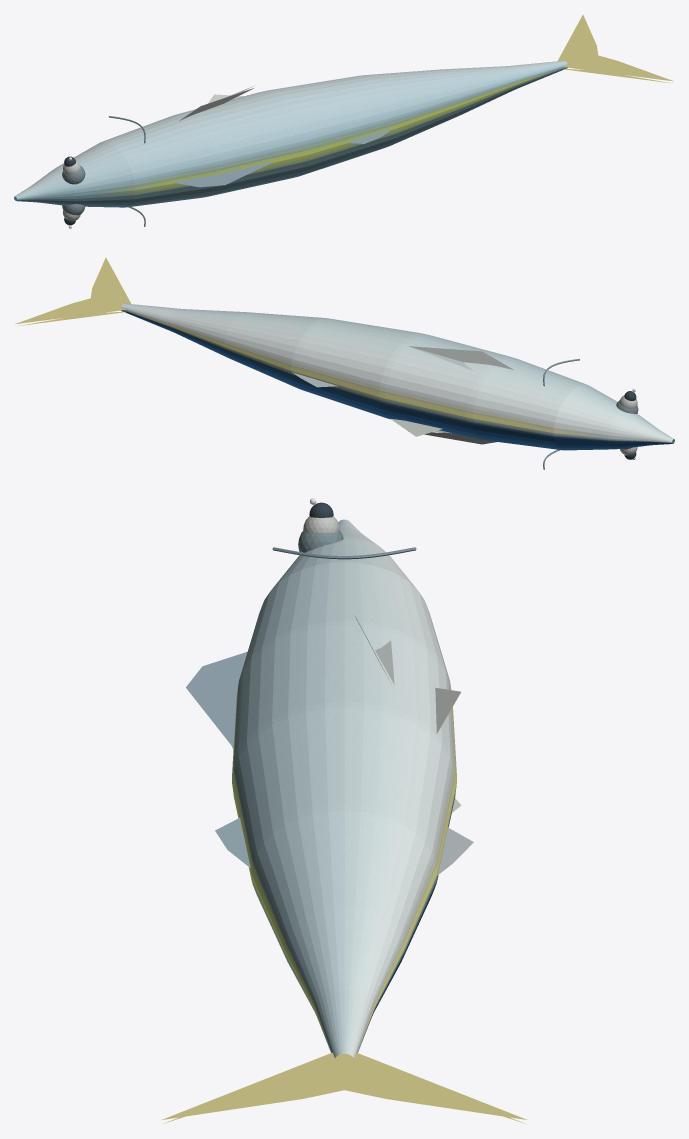
File: Ikan_Selar_Kuning.glb
3 views of the same model, one above another, from view 1: azimuth 30°, elevation 25°; view 2: azimuth 150°, elevation 25°; view 3: azimuth 270°, elevation 25° (orthographic). The views are drawn at different scales.
Parts seen in each view (by area): view 1: fish; view 2: fish; view 3: fish.
Part boxes in pixels (x1,y1,x2,y2): fish: (14,15,673,228); fish: (15,257,674,469); fish: (162,498,526,1123).
Bounding box in the file's own units: 3.39 × 0.492 × 0.88.
Materials: 1 (1 with a texture image).
